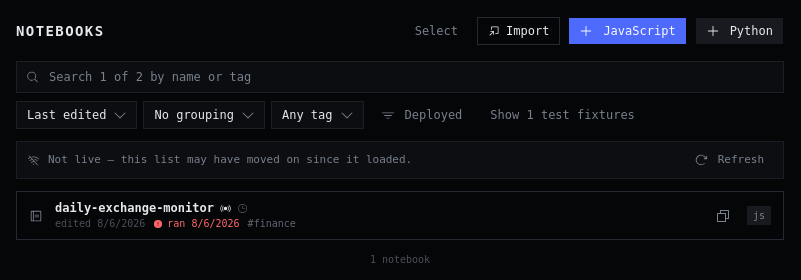
Test: selecting, which is how deleting starts now › leaving select mode puts the destructive control away again
The image size is (801, 280).
Expected: the text "daily-exchange-monitor" is shown, [55,200,214,216]
Click the button "Select". click: (436, 31)
box: [404,17,469,45]
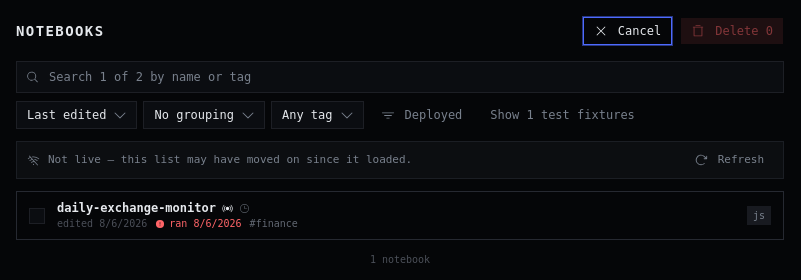
Click the button "Cancel". click: (628, 31)
box: [583,17,672,45]
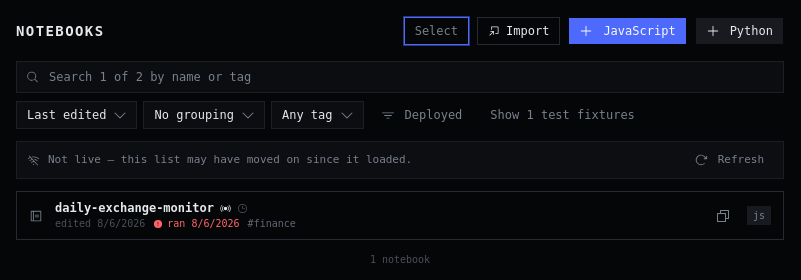
Expected: the checkbox is gone
Expected: the button "Delete" is gone
